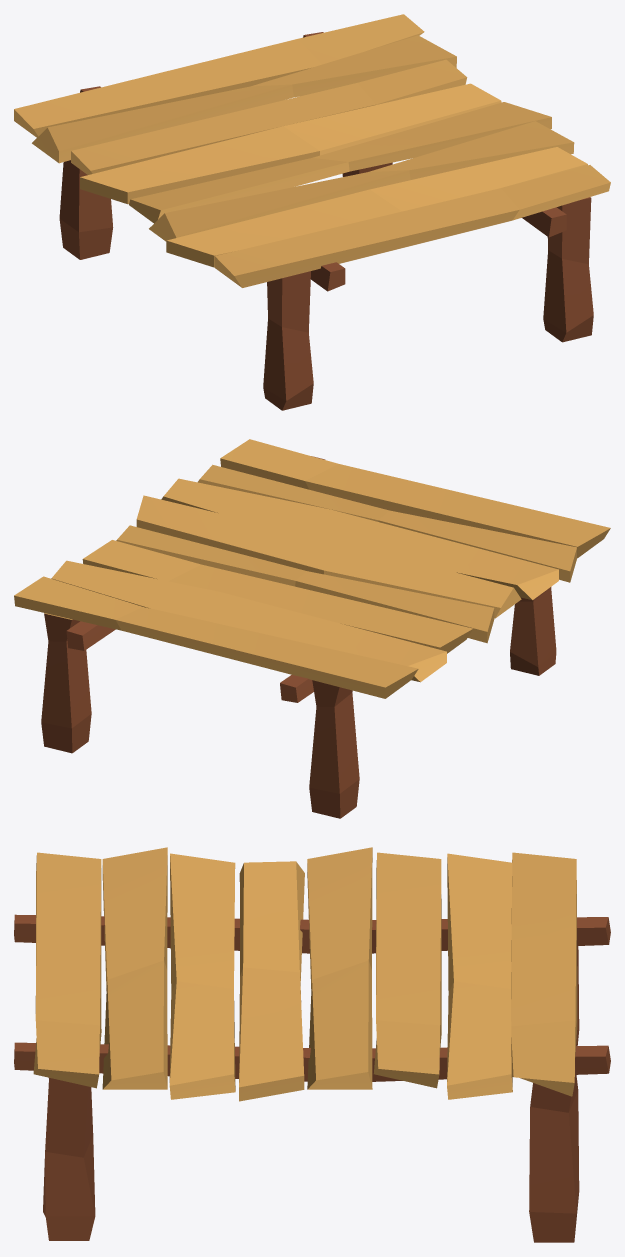
The model's file is Table.fbx.
The picture shows the model from 3 angles, top to bottom: view 1: azimuth 30°, elevation 25°; view 2: azimuth 150°, elevation 25°; view 3: azimuth 270°, elevation 25°; orthographic projection. The views are drawn at different scales.
Parts seen in each view (by area): view 1: Table; view 2: Table; view 3: Table.
Part boxes in pixels (left/top/right/bottom): Table: left=14, top=14, right=610, bottom=410; Table: left=14, top=439, right=610, bottom=818; Table: left=14, top=847, right=610, bottom=1242.
Bounding box in the file's own units: 208 × 74.86 × 218.
